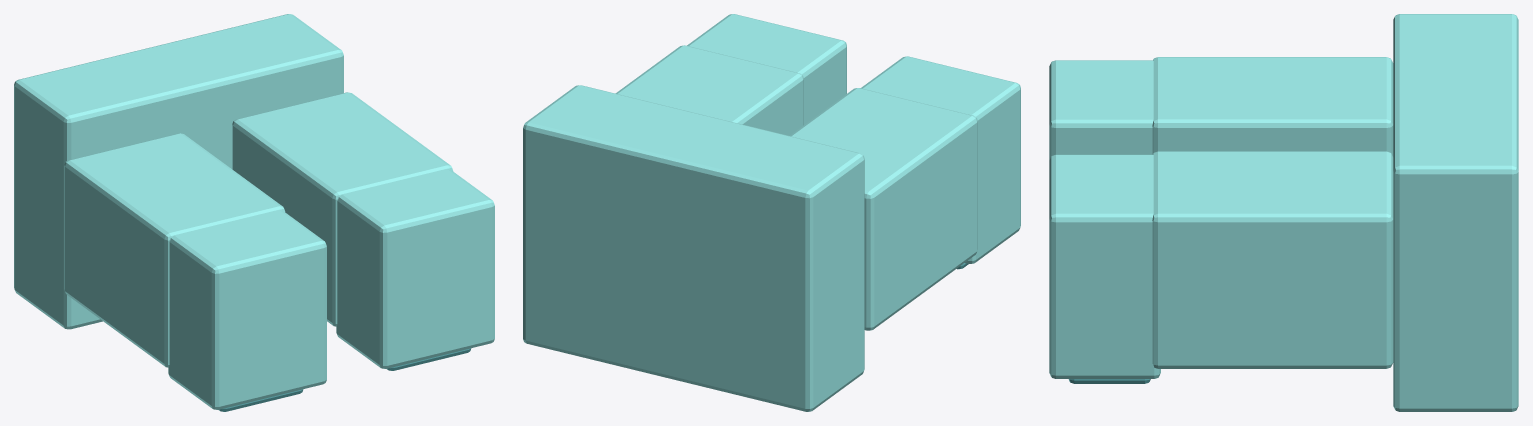
File: diamond_leggings_held.gltf
3 views of the same model, side by side, from view 1: azimuth 30°, elevation 25°; view 2: azimuth 150°, elevation 25°; view 3: azimuth 270°, elevation 25° (orthographic). The views are drawn at different scales.
Parts seen in each view (by area): view 1: armor_diamond_leggings_held; view 2: armor_diamond_leggings_held; view 3: armor_diamond_leggings_held.
Boxes of the visible parts, x1,y1,x2,y2 form: armor_diamond_leggings_held: (14, 14, 494, 411); armor_diamond_leggings_held: (523, 14, 1020, 411); armor_diamond_leggings_held: (1049, 14, 1518, 411).
Bounding box in the file's own units: 0.1632 × 0.122 × 0.2.
